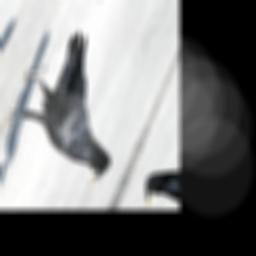Crow: (0, 18, 155, 188)
